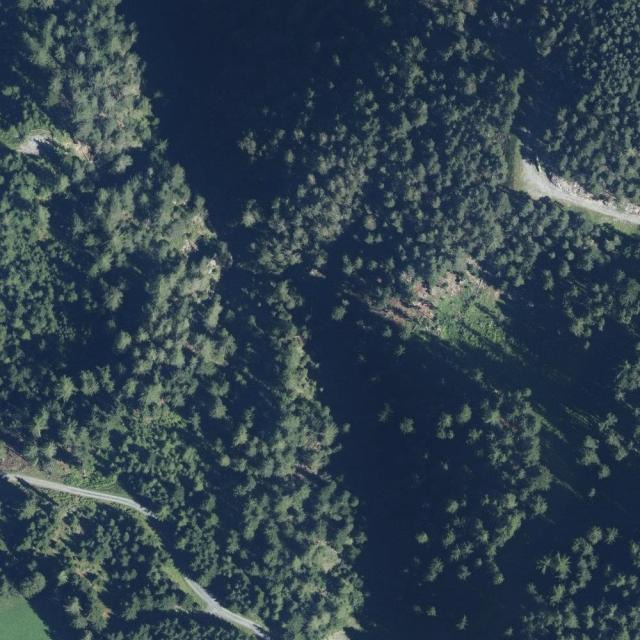greenland: (206, 192, 277, 307)
unmetalled_road: (1, 467, 156, 518)
